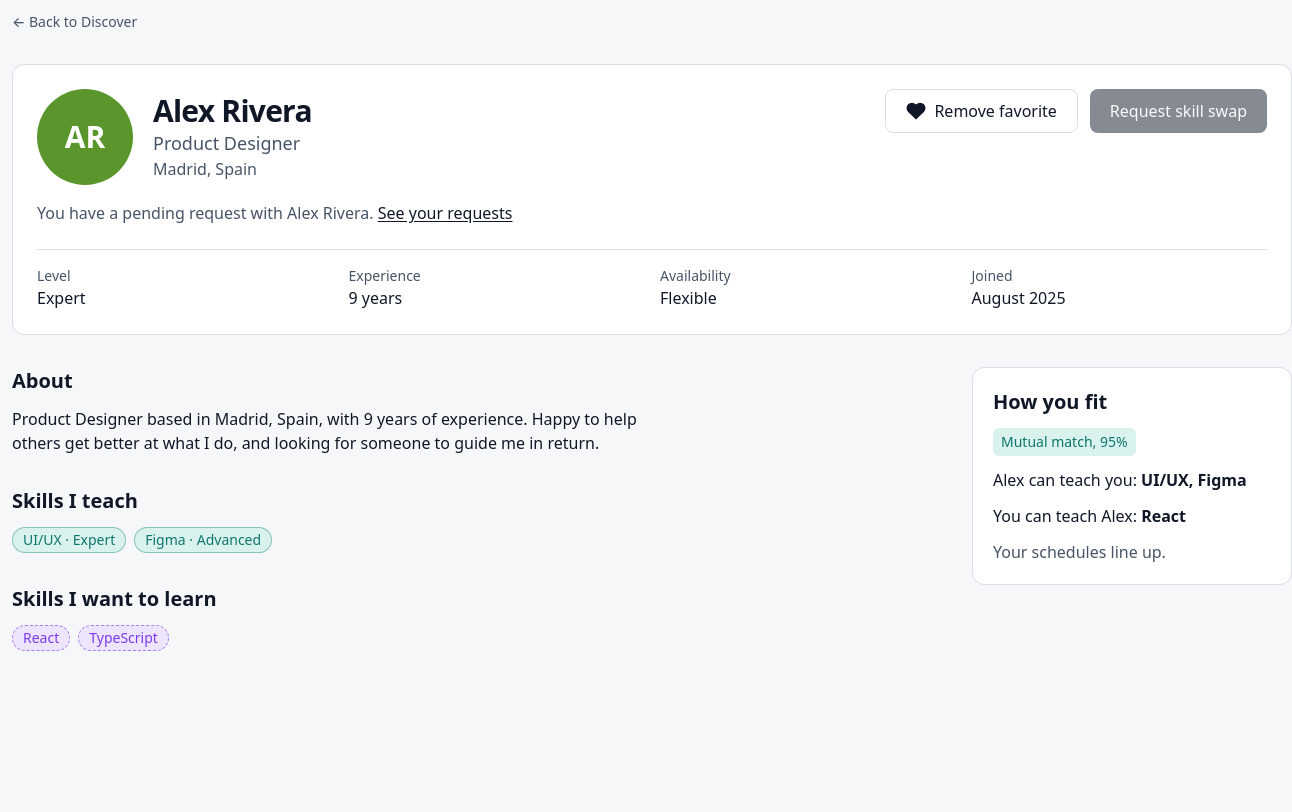
Test: ProfileView: favorites › shows that a favorite is already a favorite, and removes it
Click the button "Remove favorite".
click(982, 111)  # box 885,89 -> 1078,133
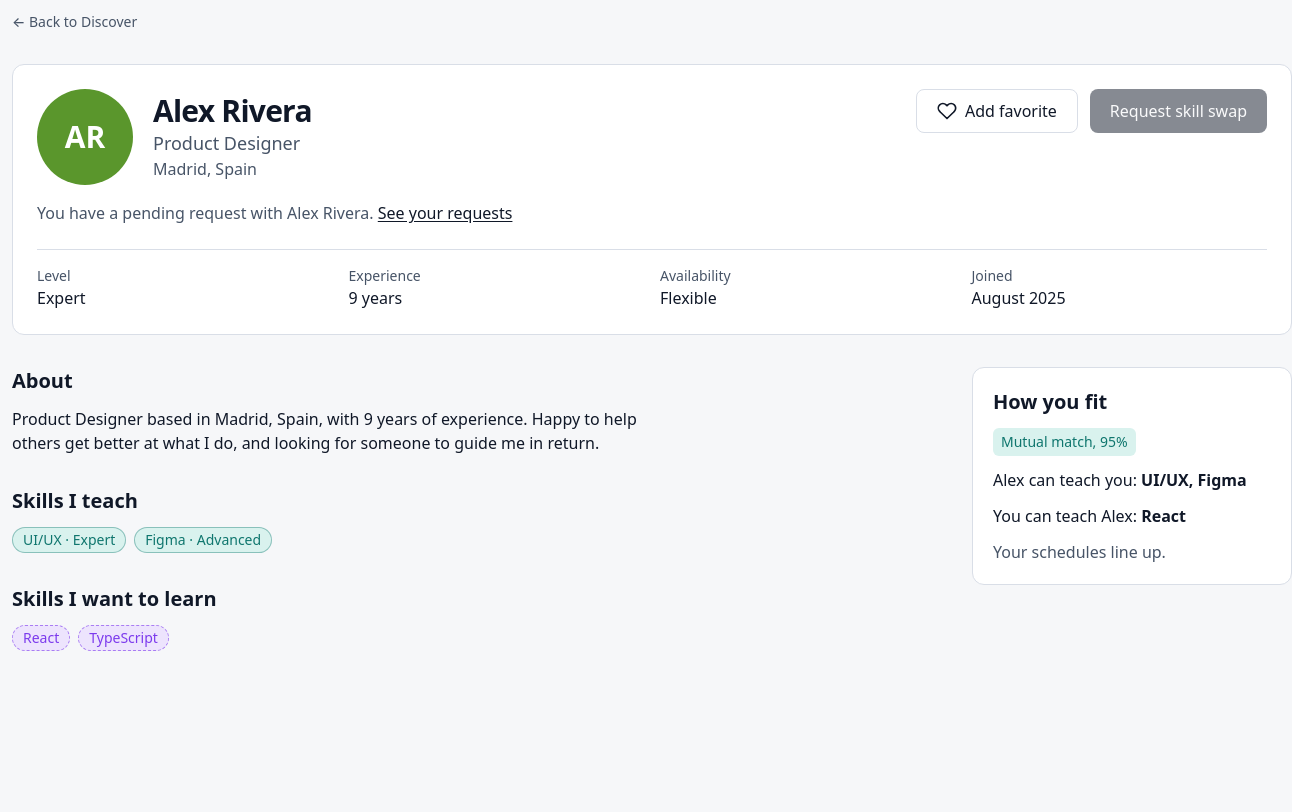
Now the button "Add favorite" is shown, box 916,89 -> 1078,133
